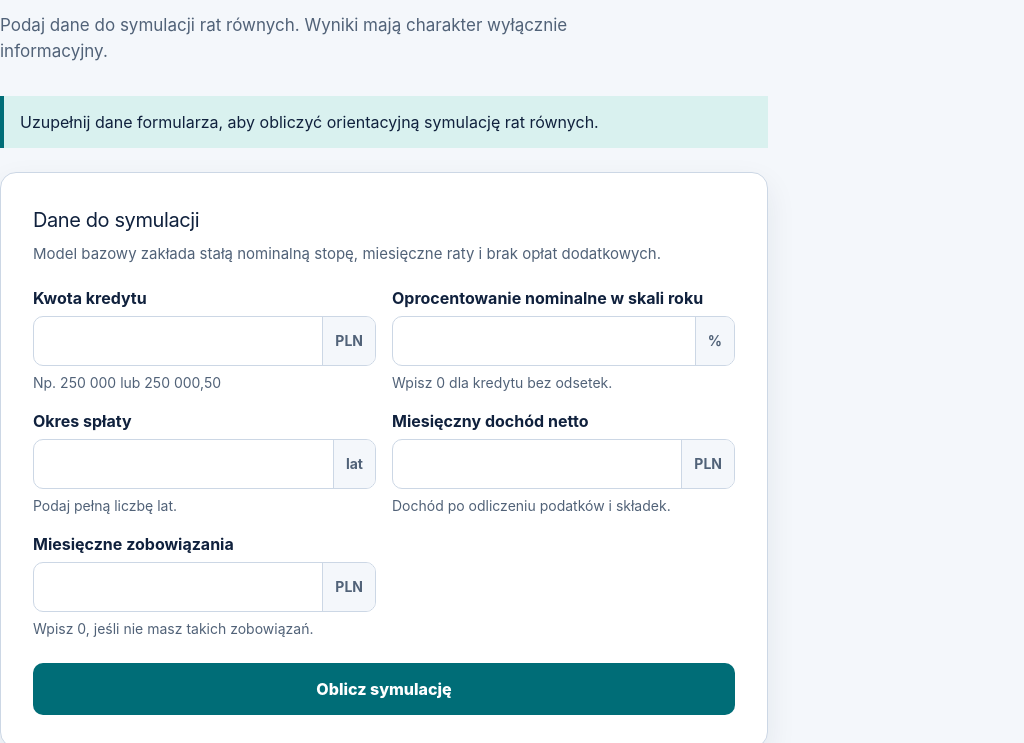
Test case: LoanCalculator › pokazuje błędy Zod i ustawia fokus na pierwszym błędnym polu
(page scrolled)
Click the button "Oblicz symulację" at coordinates (384, 689), box top-left (33, 663), bottom-right (735, 715)
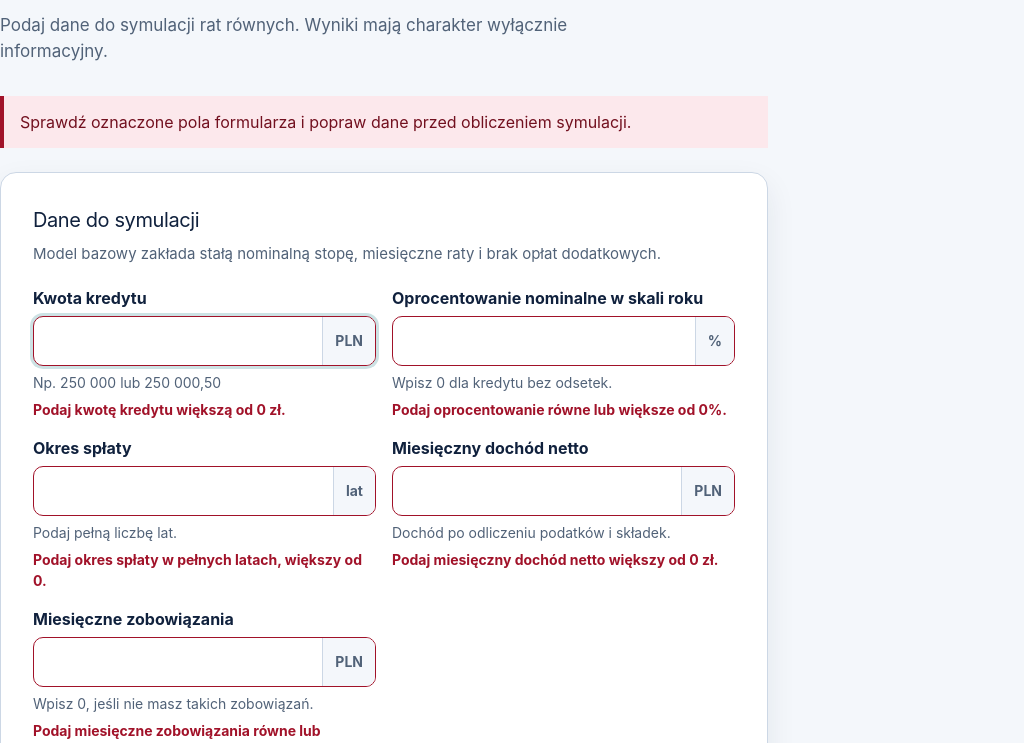
Result: the text "Podaj kwotę kredytu większą od 0 zł." is shown at top-left (33, 401), bottom-right (286, 418)
Result: the message shows "Sprawdź oznaczone pola formularza" at top-left (20, 112), bottom-right (632, 132)
